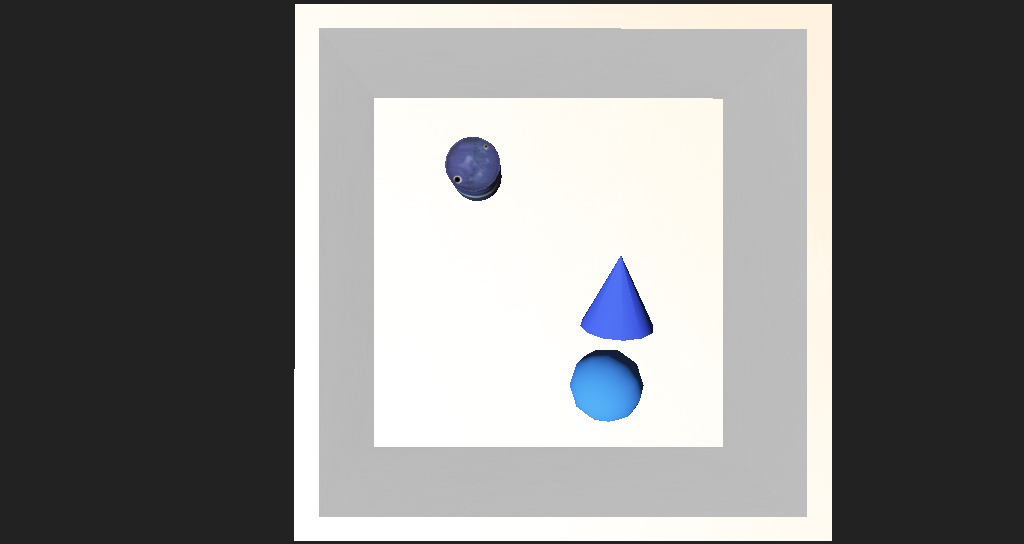cone: (411, 186, 465, 224)
cylinder: (532, 251, 600, 313)
sphere: (519, 317, 586, 360)
